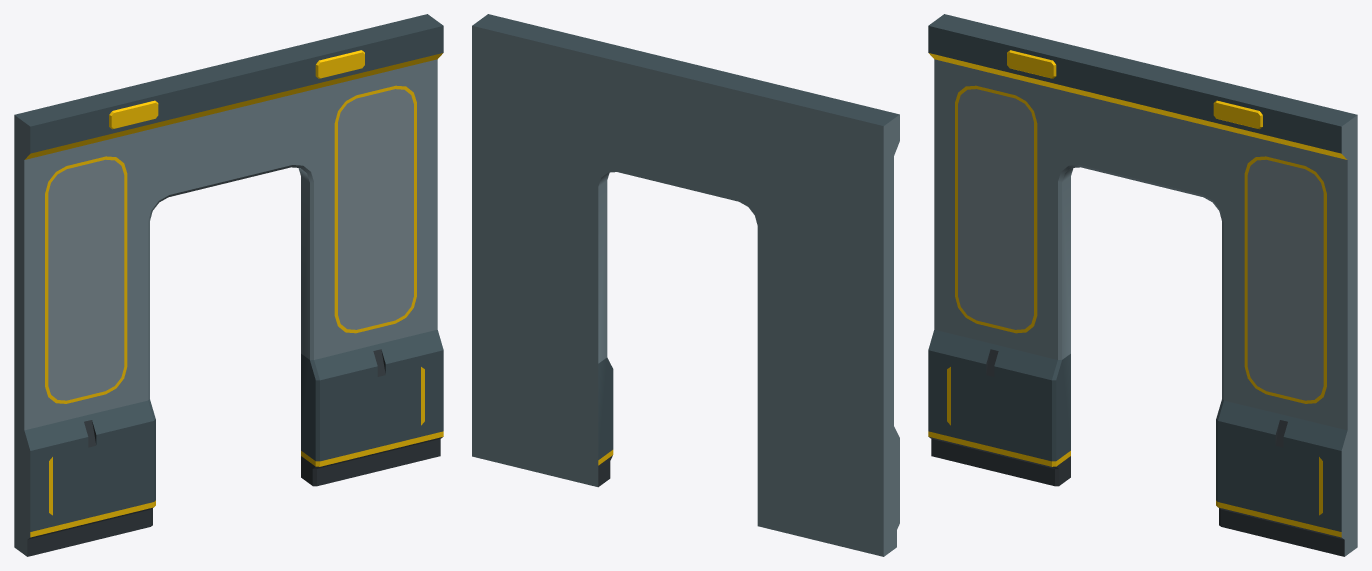
The model's file is Wall_type_C_073.fbx.
3 renders of one model, left to right at view 1: azimuth 30°, elevation 25°; view 2: azimuth 150°, elevation 25°; view 3: azimuth 330°, elevation 25°, orthographic.
Parts seen in each view (by area): view 1: Wall_type_C_073; view 2: Wall_type_C_073; view 3: Wall_type_C_073.
Boxes of the visible parts, x1,y1,x2,y2 form: Wall_type_C_073: (14,14,443,556); Wall_type_C_073: (472,14,899,556); Wall_type_C_073: (928,14,1357,556).
Bounding box in the file's own units: 400 × 28.98 × 400.
